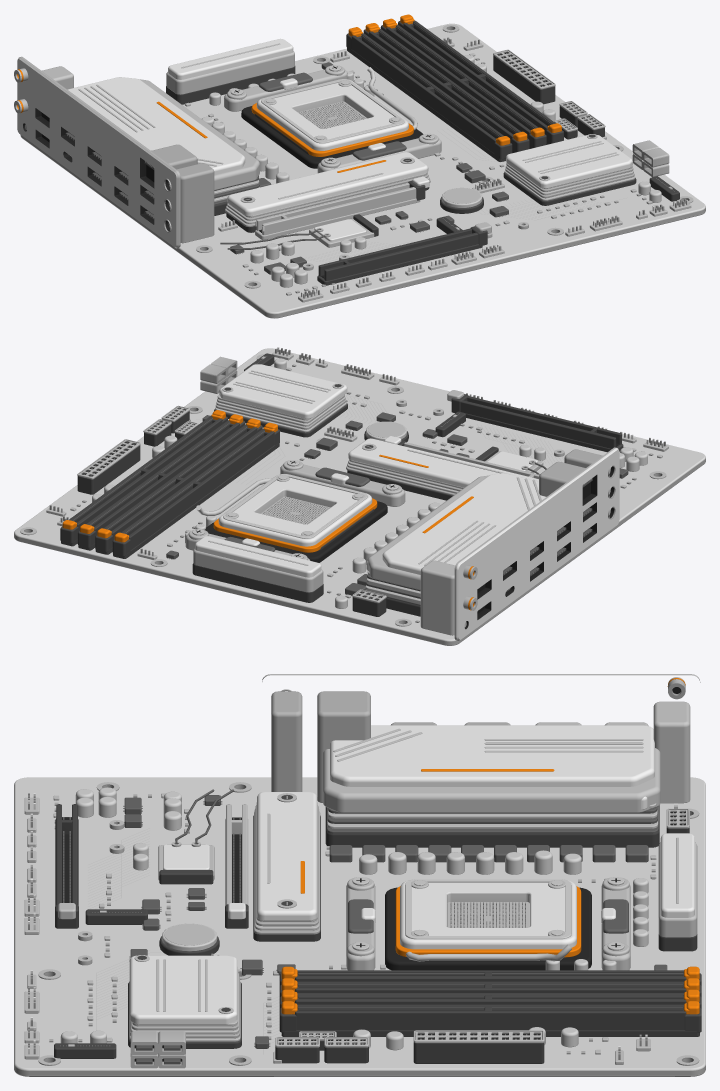
File: motherboard-asrock-b650m-satin.glb
3 views of the same model, one above another, from view 1: azimuth 30°, elevation 25°; view 2: azimuth 150°, elevation 25°; view 3: azimuth 270°, elevation 25° (orthographic). The views are drawn at different scales.
Parts seen in each view (by area): view 1: ASRock B650M Pro RS WiFi · satin; view 2: ASRock B650M Pro RS WiFi · satin; view 3: ASRock B650M Pro RS WiFi · satin.
Boxes of the visible parts, <box> form: ASRock B650M Pro RS WiFi · satin: <box>14,14,705,318</box>; ASRock B650M Pro RS WiFi · satin: <box>14,347,705,645</box>; ASRock B650M Pro RS WiFi · satin: <box>14,674,705,1076</box>.
Size of the model in its own units: 0.2505 by 0.046 by 0.244.
